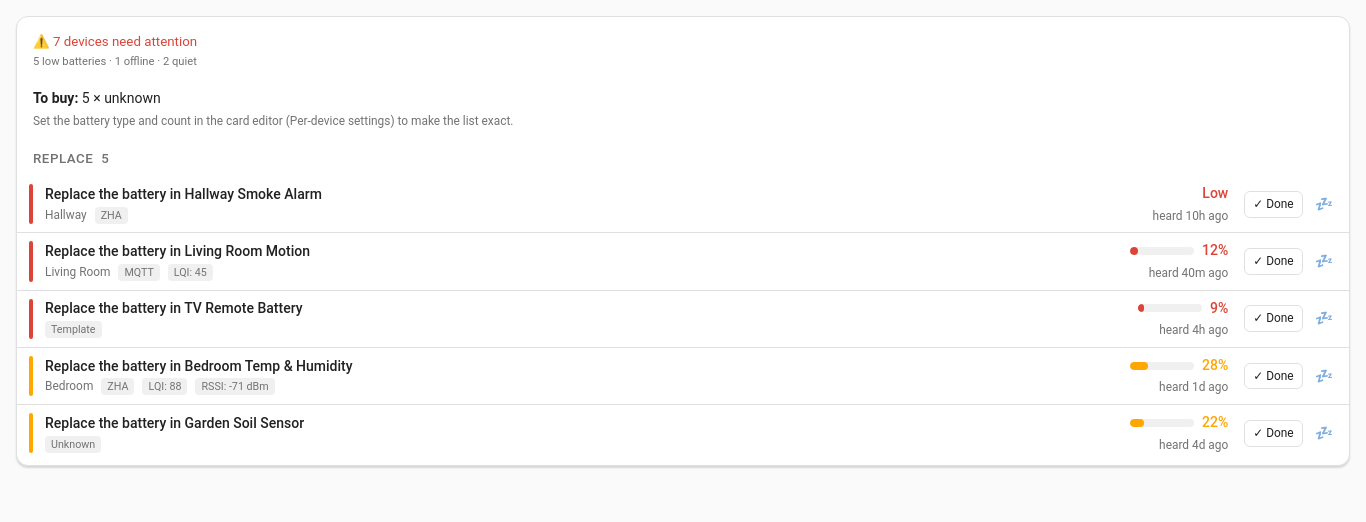
App, when a row action fails › shows the error instead of Undo when the mark is refused
Expected: the text "To buy:" is shown, [33, 90, 78, 106]
Click the button with aria-label "Mark Living Room Motion done" at [1274, 262], box [1244, 248, 1303, 275]
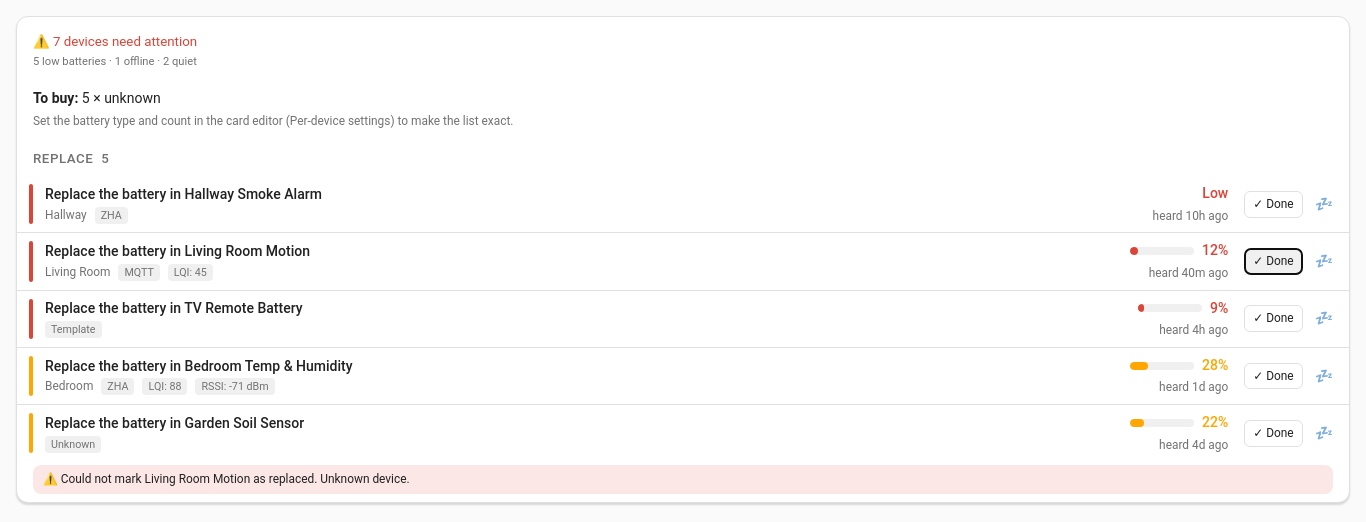
Now the message shows "Could not mark Living Room Motion as replaced. Unknown device.", box [33, 465, 1333, 494]
